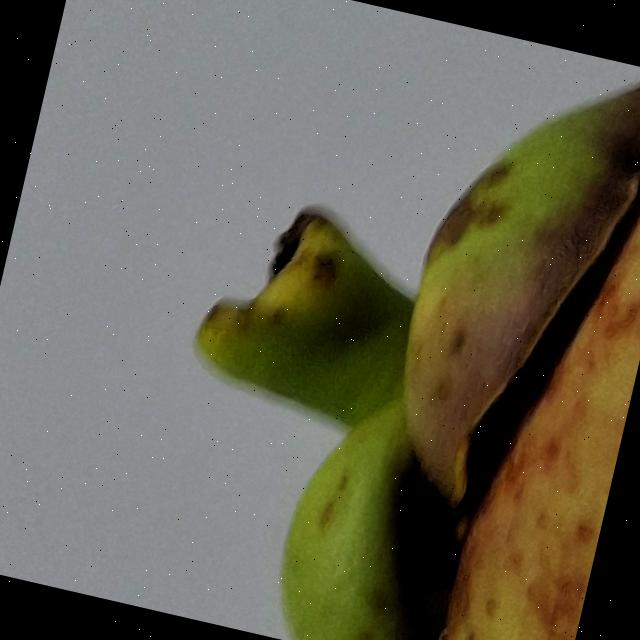mangosteen: (72, 0, 640, 640)
